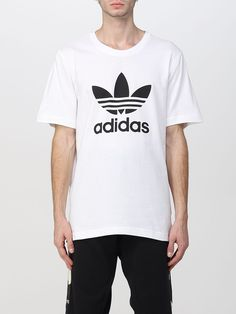adidas Originale: (87, 69, 158, 136)
